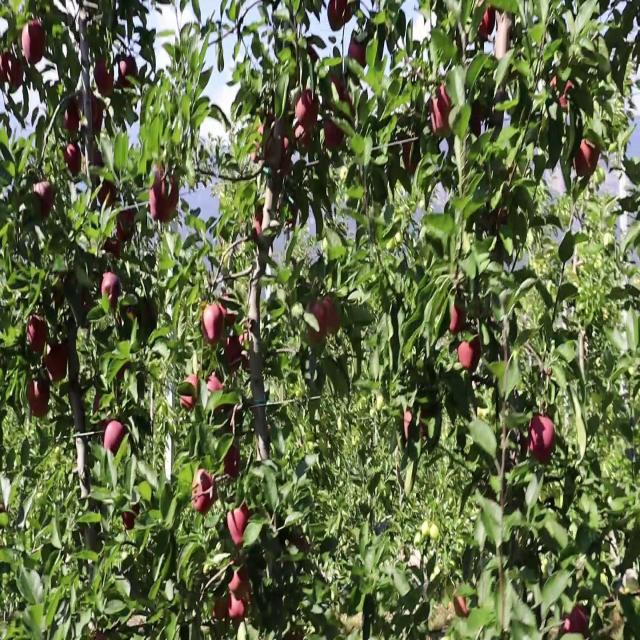apple: (148, 170, 180, 226), (428, 85, 454, 140), (532, 412, 556, 462), (192, 469, 217, 516), (44, 341, 70, 384), (24, 21, 48, 66), (572, 142, 600, 180), (228, 504, 252, 548), (28, 376, 51, 420), (296, 92, 321, 132), (308, 298, 327, 347), (28, 312, 49, 356), (548, 78, 575, 112), (232, 575, 251, 622), (96, 56, 116, 100), (104, 419, 127, 457), (32, 184, 56, 220), (100, 270, 121, 311), (604, 590, 626, 629), (204, 305, 224, 347), (564, 604, 588, 638), (64, 142, 84, 178), (180, 376, 200, 412), (404, 405, 424, 441), (8, 49, 24, 92), (328, 0, 347, 36), (460, 341, 482, 372), (4, 49, 20, 91), (232, 568, 251, 603), (328, 78, 350, 108), (88, 92, 104, 133), (324, 120, 345, 151), (296, 120, 314, 156), (64, 99, 81, 137), (324, 298, 341, 336), (120, 56, 138, 91), (224, 447, 243, 480), (448, 305, 468, 336), (252, 206, 270, 240), (332, 1, 354, 28), (116, 213, 136, 242), (224, 334, 242, 366), (264, 142, 283, 171), (480, 7, 496, 41), (348, 42, 368, 69), (428, 604, 446, 633), (220, 298, 237, 327), (404, 142, 418, 176), (252, 206, 266, 240), (124, 504, 140, 533), (404, 412, 420, 441), (56, 277, 71, 306), (472, 106, 485, 139), (452, 597, 470, 620), (100, 184, 117, 208), (108, 234, 123, 260), (232, 597, 247, 622), (208, 376, 224, 396), (240, 334, 251, 363), (80, 291, 94, 313), (280, 156, 294, 178), (216, 597, 229, 620), (96, 398, 107, 425), (404, 412, 414, 441), (252, 142, 263, 167), (520, 433, 531, 457), (92, 149, 104, 169), (344, 7, 354, 23), (96, 398, 102, 416)
